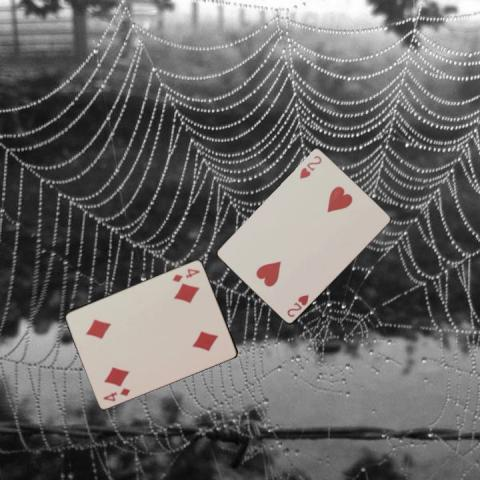2h: (297, 152, 323, 180), (284, 292, 310, 319)
4d: (100, 384, 132, 403), (170, 266, 201, 284)
